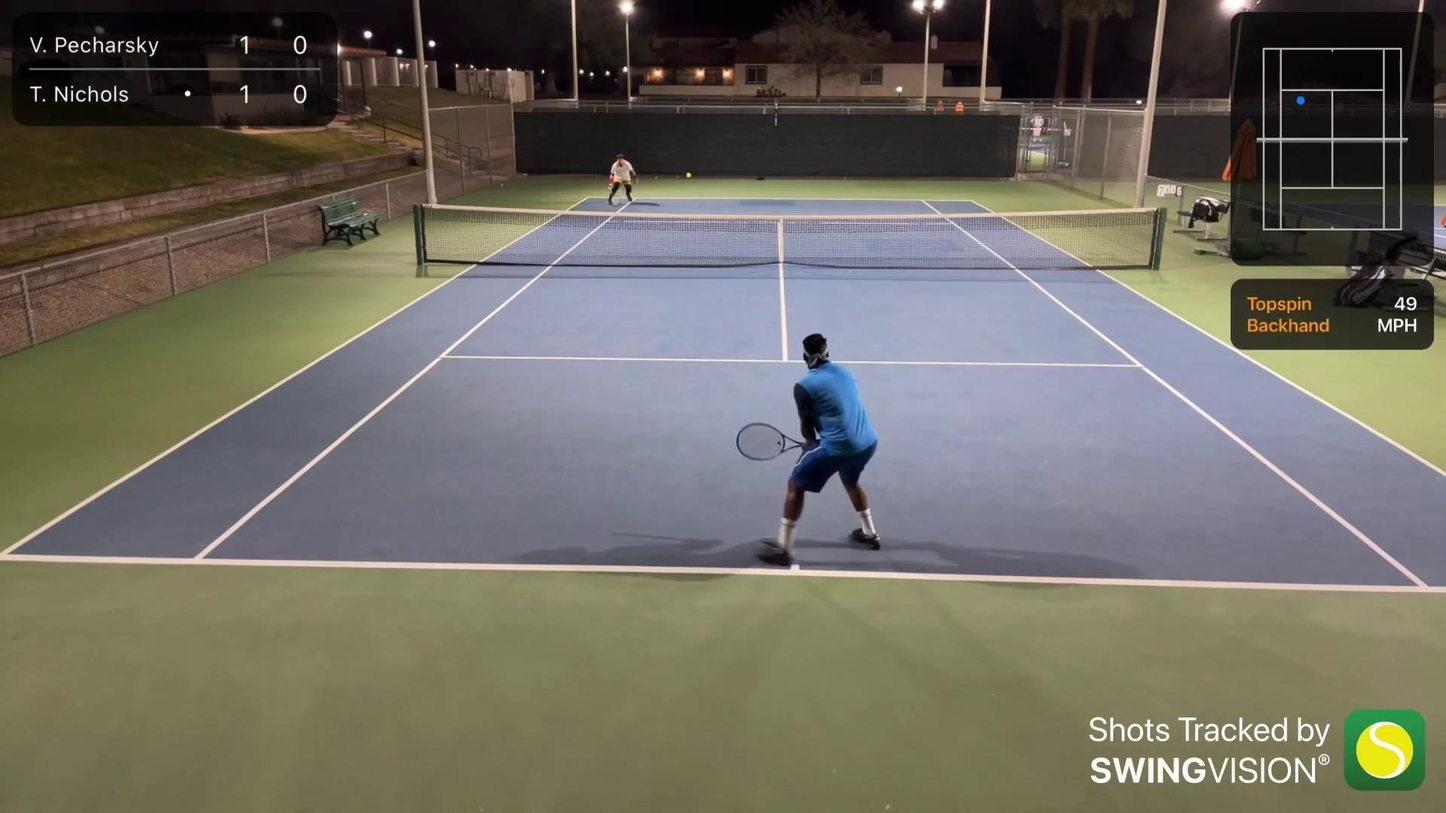ball: (683, 171, 694, 181)
